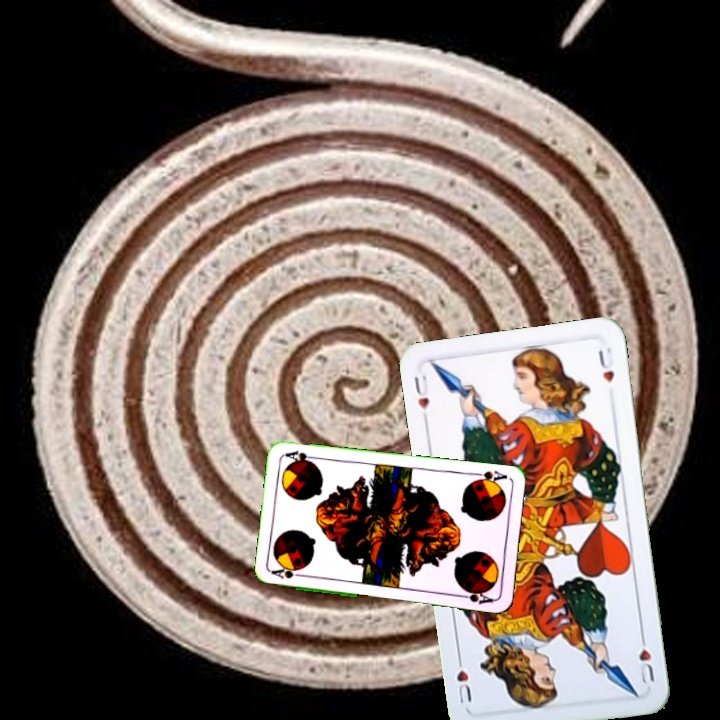HU: (635, 629, 657, 687), (410, 371, 432, 412)
SA: (468, 467, 510, 487), (269, 565, 309, 581)
